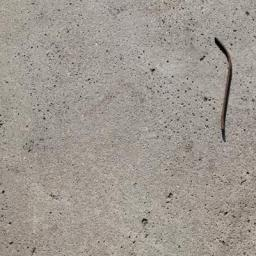FOD: (209, 32, 240, 140)
